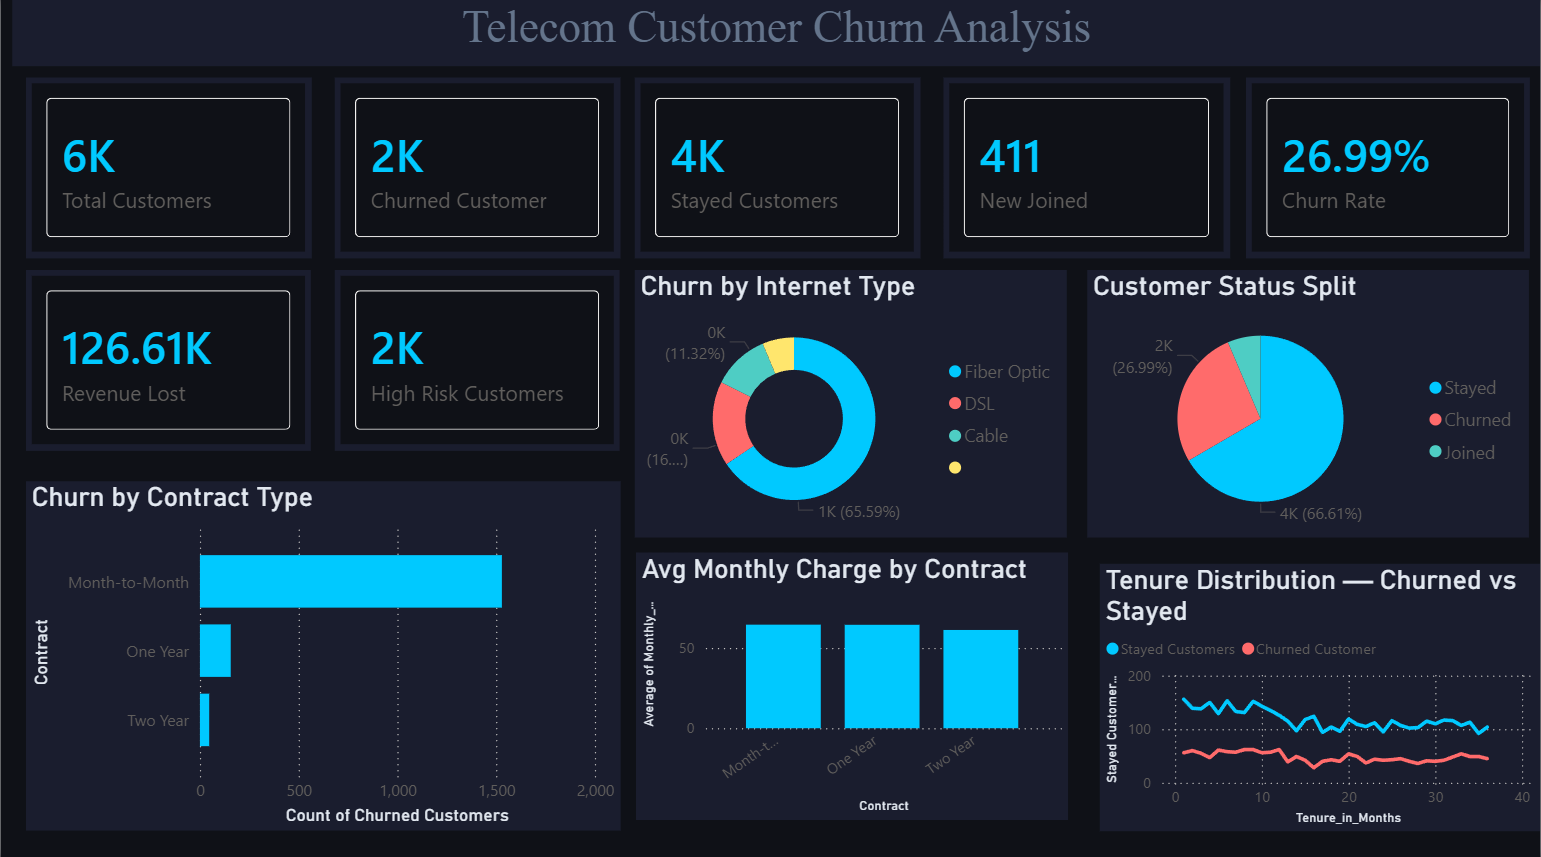

The page's visual inventory and layout, read from the dashboard file:
{"tool":"powerbi","page":{"name":"Summary","canvas":[1280,720],"ordinal":0},"visuals":[{"type":"textbox","box":[9.3,0,1270.9,59.3],"z":0},{"type":"cardVisual","fields":{"Data":["churn_db cleaned_churn.Total Customers"]},"box":[20.9,68.6,237.2,150],"z":1000},{"type":"cardVisual","fields":{"Data":["churn_db cleaned_churn.Churned Customer"]},"box":[277.9,68.6,237.2,150],"z":2000},{"type":"cardVisual","fields":{"Data":["churn_db cleaned_churn.Stayed Customers"]},"box":[526.7,68.6,237.2,150],"z":3000},{"type":"cardVisual","fields":{"Data":["churn_db cleaned_churn.New Joined"]},"box":[783.7,68.6,238.4,150],"z":4000},{"type":"cardVisual","fields":{"Data":["churn_db cleaned_churn.Churn Rate"]},"box":[1034.9,68.6,236,150],"z":5000},{"type":"clusteredBarChart","title":"Churn by Contract Type","fields":{"Category":["churn_db cleaned_churn.Contract"],"Y":["CountNonNull(churn_db cleaned_churn.Churned Customers)"]},"box":[20.9,404.7,494.2,290.7],"z":6000},{"type":"cardVisual","fields":{"Data":["churn_db cleaned_churn.Revenue Lost"]},"box":[21,229,237,150],"z":7000},{"type":"cardVisual","fields":{"Data":["churn_db cleaned_churn.High Risk Customers"]},"box":[278,229,237,150],"z":8000},{"type":"donutChart","title":"Churn by Internet Type","fields":{"Category":["churn_db cleaned_churn.Internet_Type"],"Y":["churn_db cleaned_churn.Churned Customer"]},"box":[526.7,229.1,359.3,222.1],"z":9000},{"type":"clusteredColumnChart","title":"Avg Monthly Charge by Contract","fields":{"Category":["churn_db cleaned_churn.Contract"],"Y":["Avg(churn_db cleaned_churn.Monthly_Charge)"]},"box":[527.9,464,359.3,222.1],"z":10000},{"type":"pieChart","title":"Customer Status Split","fields":{"Category":["churn_db cleaned_churn.Customer_Status"],"Y":["churn_db cleaned_churn.Total Customers"]},"box":[903.5,229.1,367.4,222.1],"z":11000},{"type":"lineChart","title":"Tenure Distribution — Churned vs Stayed","fields":{"Category":["churn_db cleaned_churn.Tenure_in_Months"],"Y":["churn_db cleaned_churn.Stayed Customers","churn_db cleaned_churn.Churned Customer"]},"box":[914,473.3,366.3,222.1],"z":12000}]}

Visuals, with their boxes in screenshot pixels (x1, y1, x2, y2), scaled from the page's 1280x720 canvas onto the 1541x857 screenshot:
textbox: [left=11, top=0, right=1540, bottom=71]
cardVisual - churn_db cleaned_churn.Total Customers: [left=25, top=82, right=311, bottom=260]
cardVisual - churn_db cleaned_churn.Churned Customer: [left=335, top=82, right=620, bottom=260]
cardVisual - churn_db cleaned_churn.Stayed Customers: [left=634, top=82, right=920, bottom=260]
cardVisual - churn_db cleaned_churn.New Joined: [left=944, top=82, right=1231, bottom=260]
cardVisual - churn_db cleaned_churn.Churn Rate: [left=1246, top=82, right=1530, bottom=260]
"Churn by Contract Type" clusteredBarChart: [left=25, top=482, right=620, bottom=828]
cardVisual - churn_db cleaned_churn.Revenue Lost: [left=25, top=273, right=311, bottom=451]
cardVisual - churn_db cleaned_churn.High Risk Customers: [left=335, top=273, right=620, bottom=451]
"Churn by Internet Type" donutChart: [left=634, top=273, right=1067, bottom=537]
"Avg Monthly Charge by Contract" clusteredColumnChart: [left=636, top=552, right=1068, bottom=817]
"Customer Status Split" pieChart: [left=1088, top=273, right=1530, bottom=537]
"Tenure Distribution — Churned vs Stayed" lineChart: [left=1100, top=563, right=1540, bottom=828]
